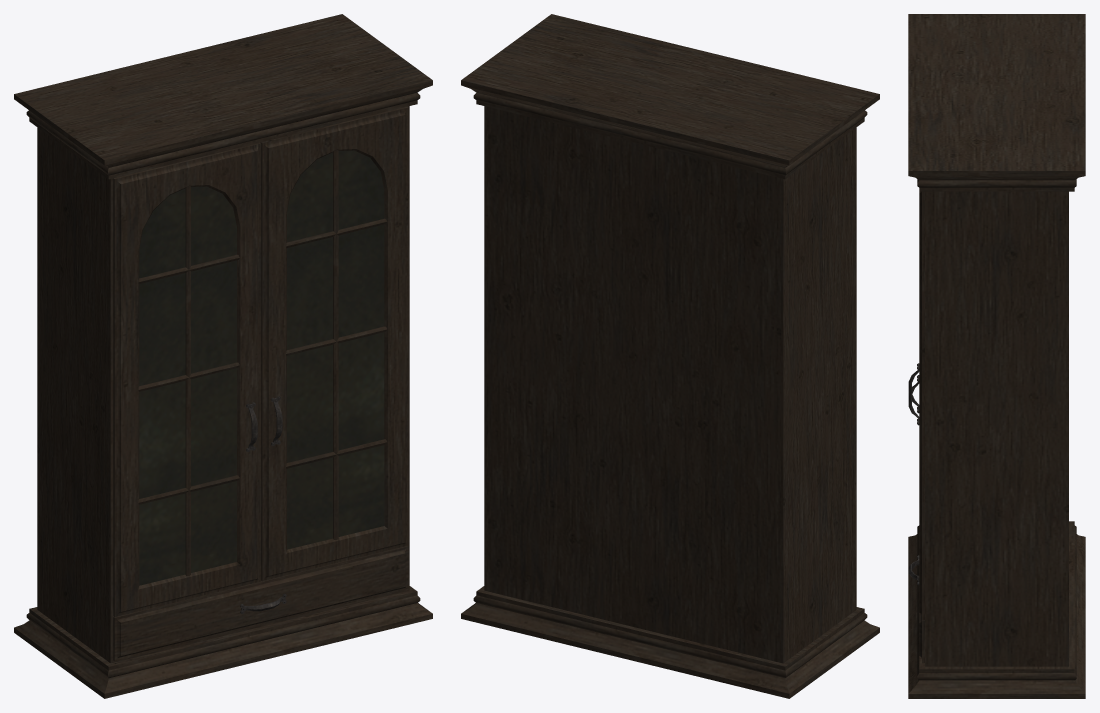
Rendered from display_cabinet_mp_2_2.obj.
3 renders of one model, left to right at view 1: azimuth 30°, elevation 25°; view 2: azimuth 150°, elevation 25°; view 3: azimuth 270°, elevation 25°, orthographic. The views are drawn at different scales.
Parts seen in each view (by area): view 1: display_cabinet_mp_2_2, display_cabinet_mp_2_2_door_1, display_cabinet_mp_2_2_door_2, display_cabinet_mp_2_2_drawer; view 2: display_cabinet_mp_2_2; view 3: display_cabinet_mp_2_2, display_cabinet_mp_2_2_door_2, display_cabinet_mp_2_2_drawer.
Part boxes in pixels (box(x1,y1,x2,y2)): display_cabinet_mp_2_2: box(14, 14, 432, 698); display_cabinet_mp_2_2_door_1: box(113, 142, 261, 617); display_cabinet_mp_2_2_door_2: box(260, 106, 408, 581); display_cabinet_mp_2_2_drawer: box(113, 546, 408, 661); display_cabinet_mp_2_2: box(461, 14, 879, 698); display_cabinet_mp_2_2: box(908, 14, 1085, 698); display_cabinet_mp_2_2_door_2: box(908, 191, 924, 619); display_cabinet_mp_2_2_drawer: box(908, 555, 924, 662).
Size of the model in its own units: 1.34 by 2.1 by 0.64.
